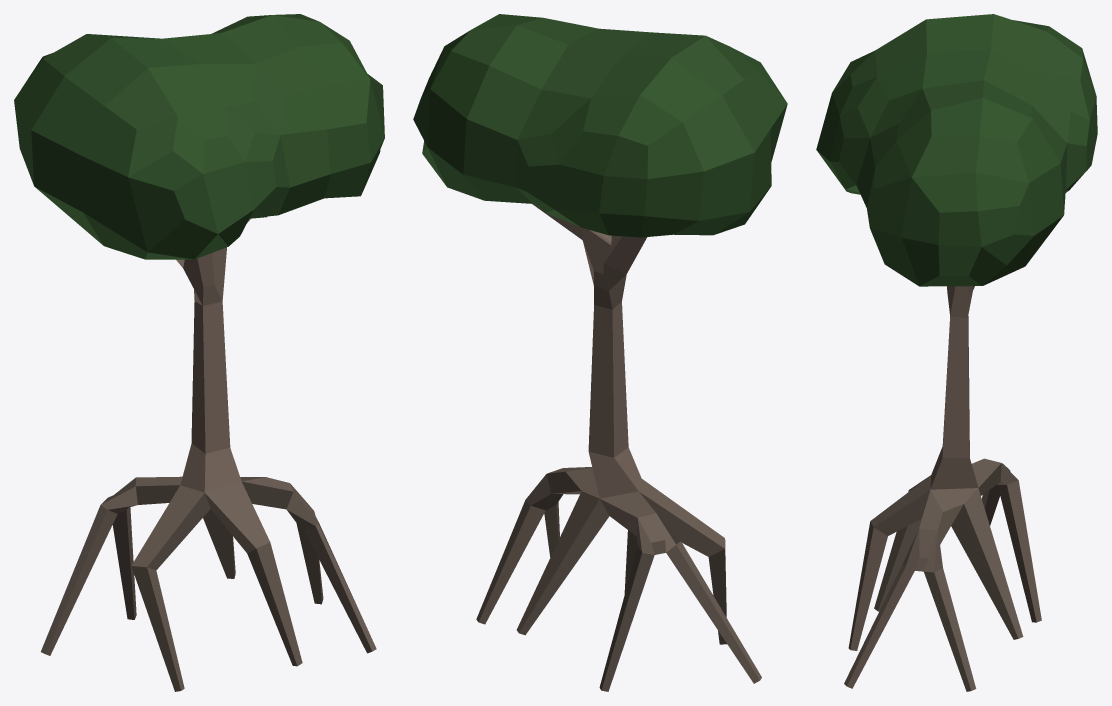
File: LargeLeafedOrangeMangrovefbx.fbx
3 views of the same model, side by side, from view 1: azimuth 30°, elevation 25°; view 2: azimuth 150°, elevation 25°; view 3: azimuth 270°, elevation 25° (orthographic). The views are drawn at different scales.
Parts seen in each view (by area): view 1: LargeLeafedOrangeMangrove; view 2: LargeLeafedOrangeMangrove; view 3: LargeLeafedOrangeMangrove.
Boxes of the visible parts, bbox=[...] form: LargeLeafedOrangeMangrove: bbox=[14, 14, 384, 691]; LargeLeafedOrangeMangrove: bbox=[413, 14, 787, 691]; LargeLeafedOrangeMangrove: bbox=[816, 14, 1097, 691].
Size of the model in its own units: 189 by 341 by 147.
